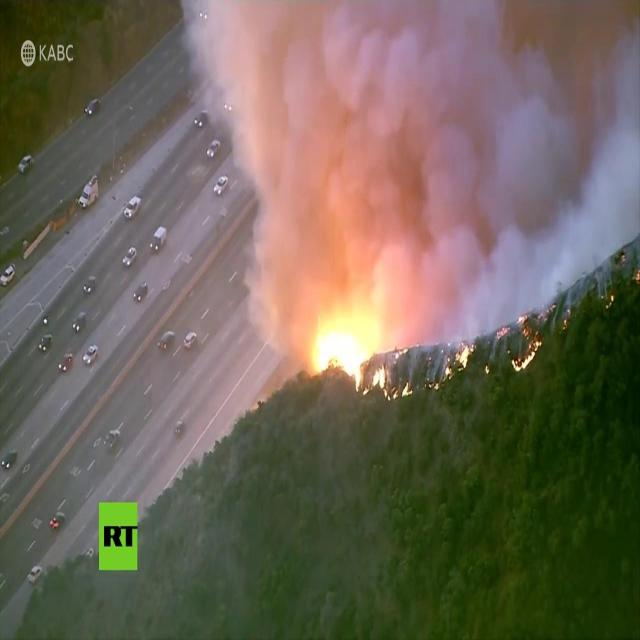Fire: (318, 321, 362, 391), (364, 367, 412, 402), (444, 345, 472, 380), (510, 340, 542, 370)
